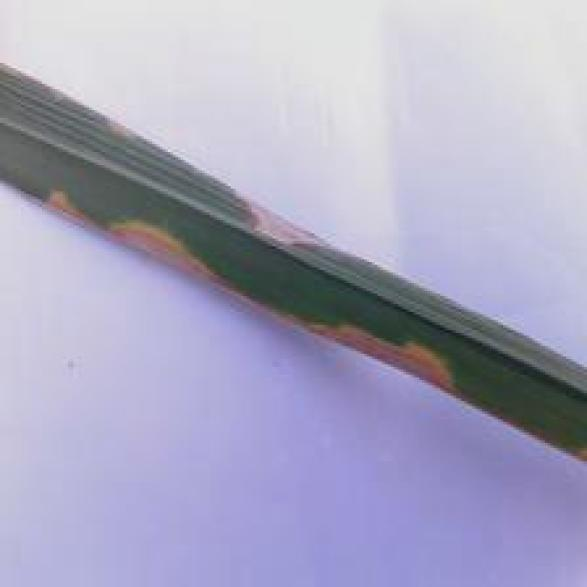Bacteria_Leaf_Blight: (26, 165, 233, 304), (286, 280, 477, 401), (226, 155, 378, 267)
